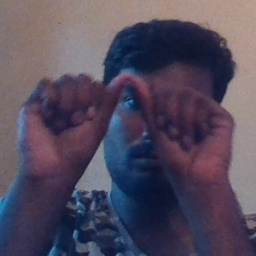A: (42, 66, 205, 181)
